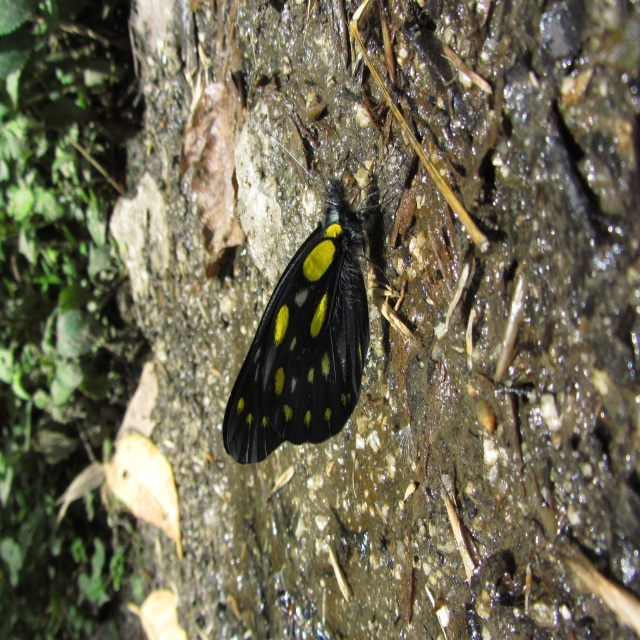Butterfly: (222, 135, 402, 467)
